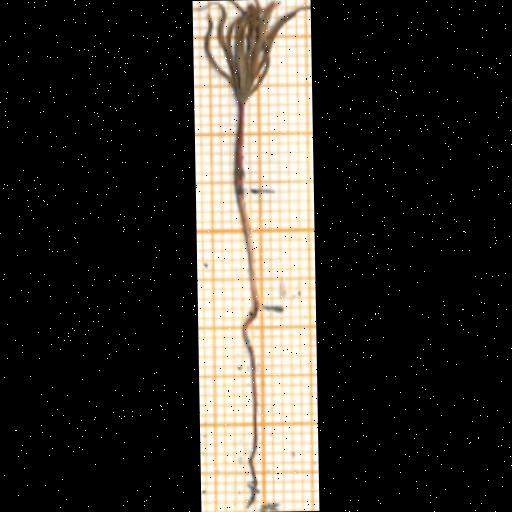flowerPinus: (205, 0, 309, 105)
rootPinus: (242, 309, 260, 503)
stemPinus: (235, 105, 244, 193)
